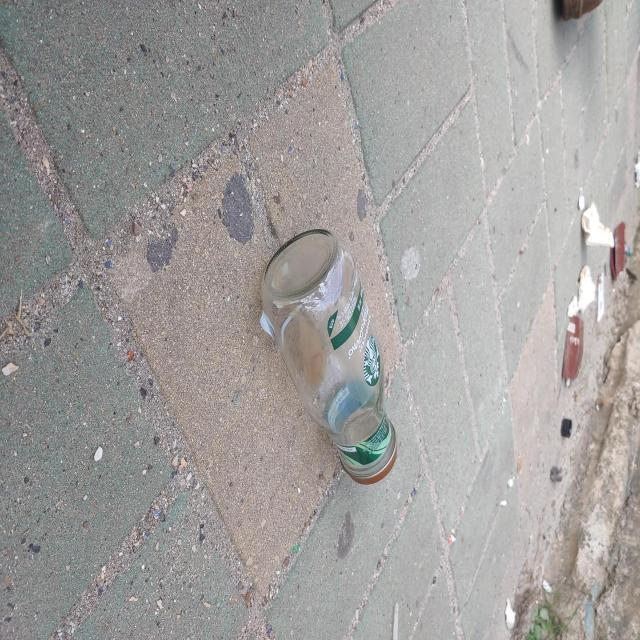glass: (261, 229, 398, 484)
